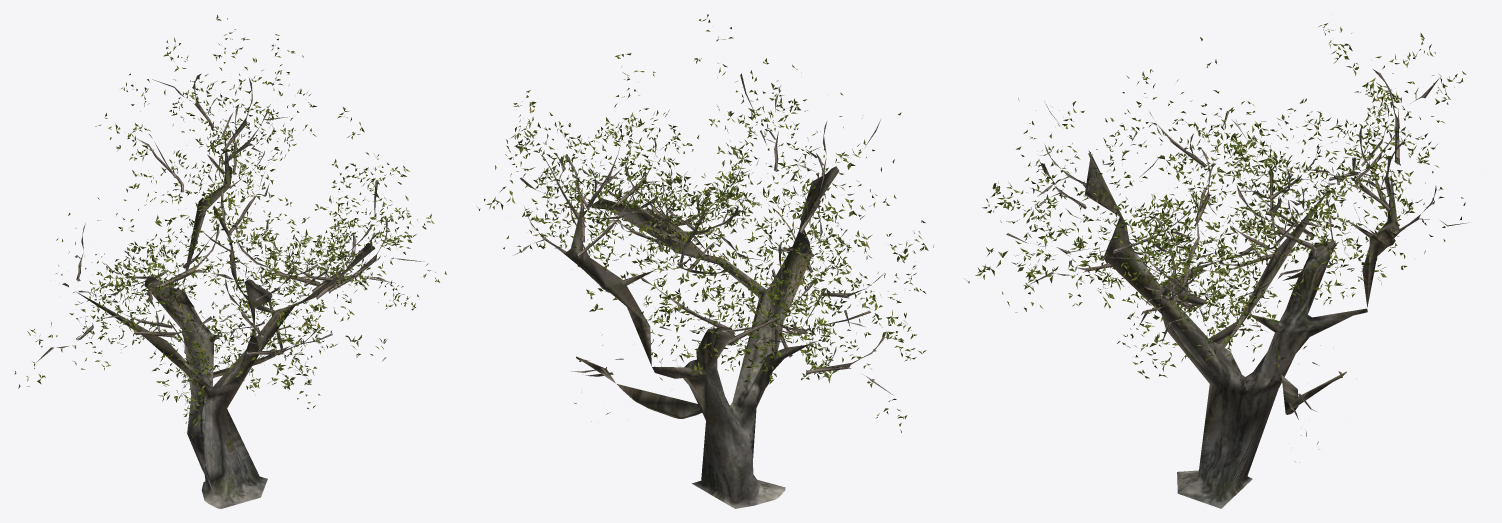
File: island_tree_01_lod1.glb
3 renders of one model, left to right at view 1: azimuth 30°, elevation 25°; view 2: azimuth 150°, elevation 25°; view 3: azimuth 270°, elevation 25°, orthographic. The views are drawn at different scales.
Parts seen in each view (by area): view 1: island_tree_01_LOD0; view 2: island_tree_01_LOD0; view 3: island_tree_01_LOD0.
Part boxes in pixels (left/top/right/bottom): island_tree_01_LOD0: left=14, top=14, right=446, bottom=508; island_tree_01_LOD0: left=477, top=14, right=933, bottom=508; island_tree_01_LOD0: left=964, top=23, right=1468, bottom=508.
Size of the model in its own units: 4.69 by 4.98 by 4.73.
3 materials, 3 textured.
